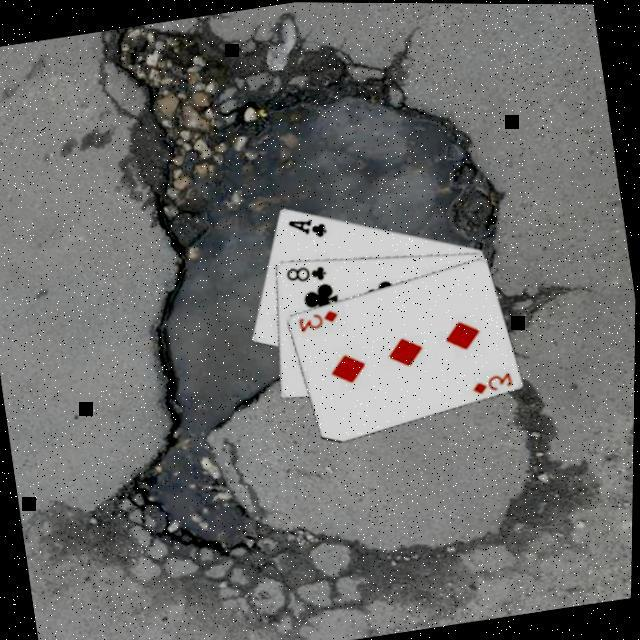3D: (293, 304, 341, 334), (466, 367, 514, 397)
8C: (281, 258, 329, 287)
AC: (281, 210, 329, 243)
